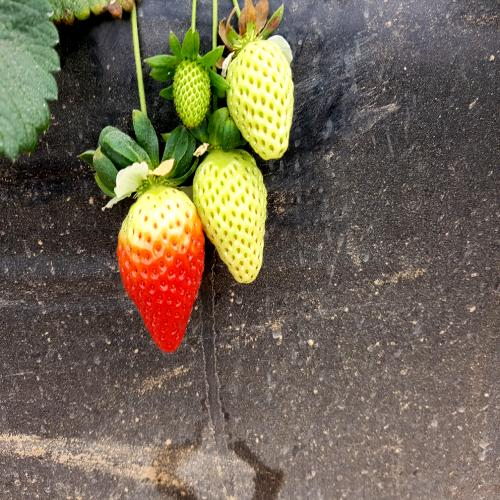partially-ripe: (115, 167, 201, 355)
